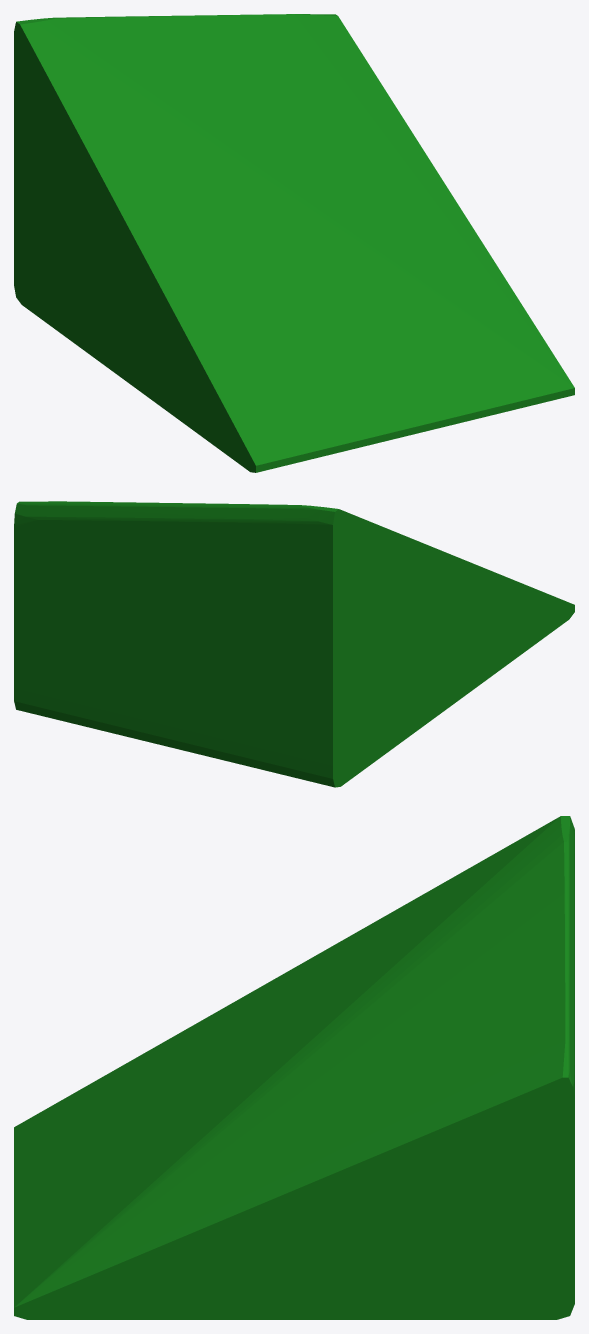
The model's file is left_hip_yaw_link_part_8.obj.
3 views of the same model, one above another, from view 1: azimuth 30°, elevation 25°; view 2: azimuth 150°, elevation 25°; view 3: azimuth 270°, elevation 25° (orthographic). The views are drawn at different scales.
Bounding box in the file's own units: 0.0308 × 0.0257 × 0.0404.
